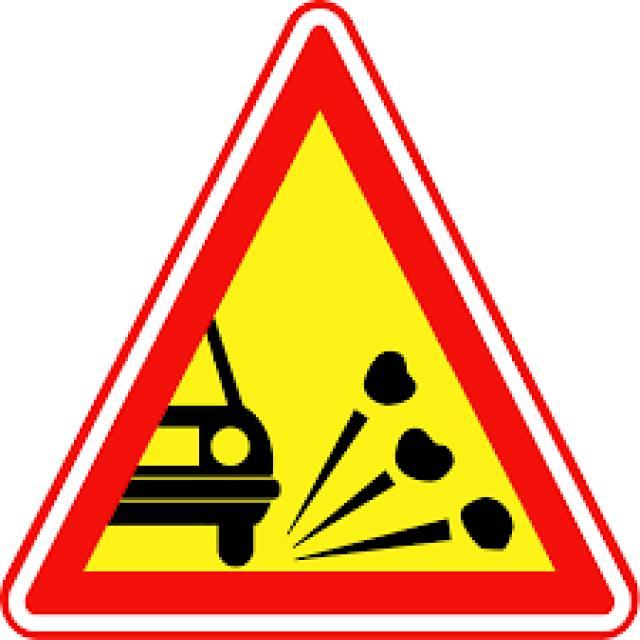loose gravel: (35, 31, 615, 617)
